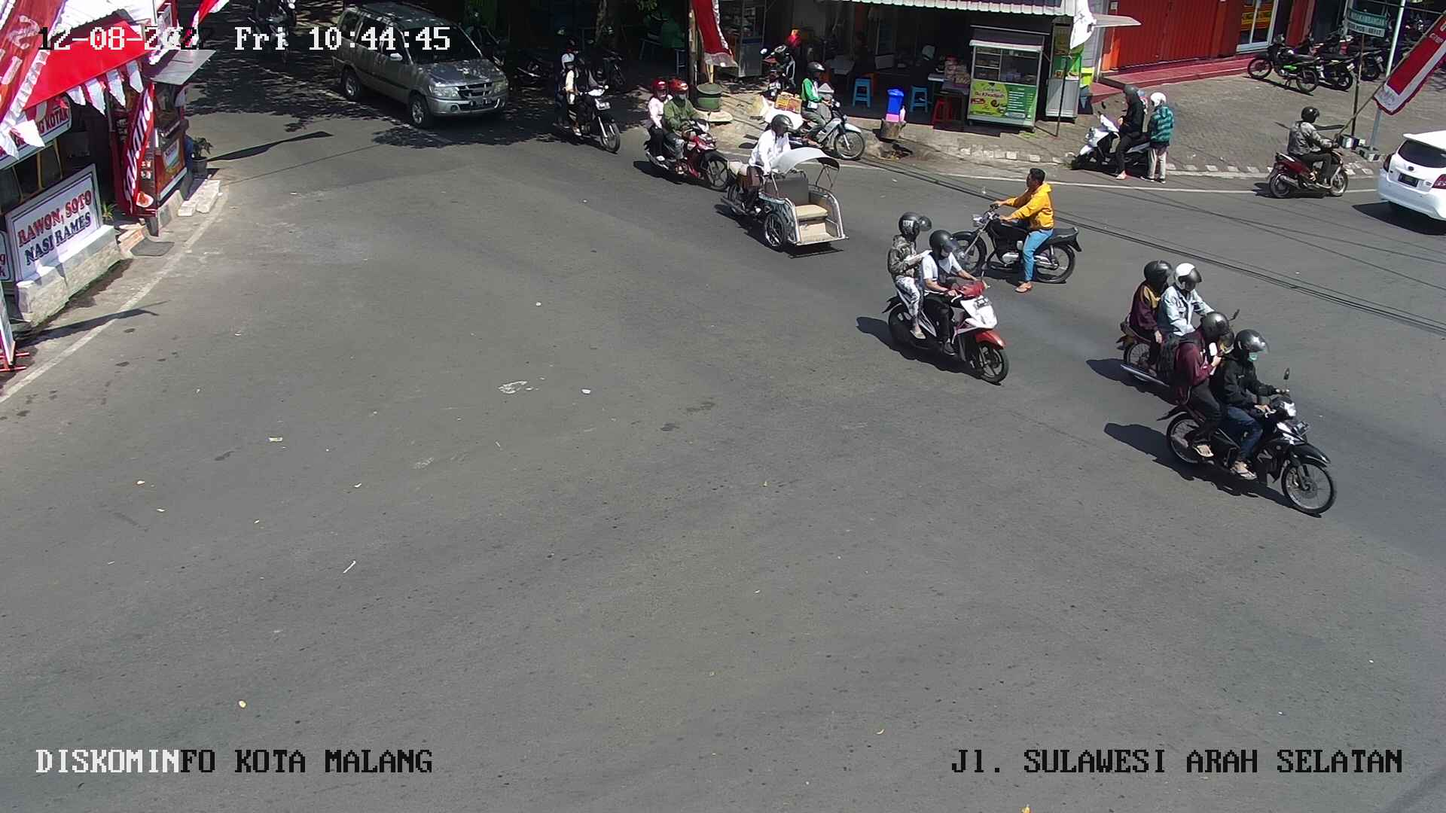with_helmet: (1149, 302, 1354, 527), (871, 203, 1020, 394), (1100, 246, 1233, 397), (736, 109, 846, 253), (637, 74, 733, 191), (776, 61, 868, 163), (1266, 104, 1353, 202)
without_helmet: (949, 159, 1089, 301)
